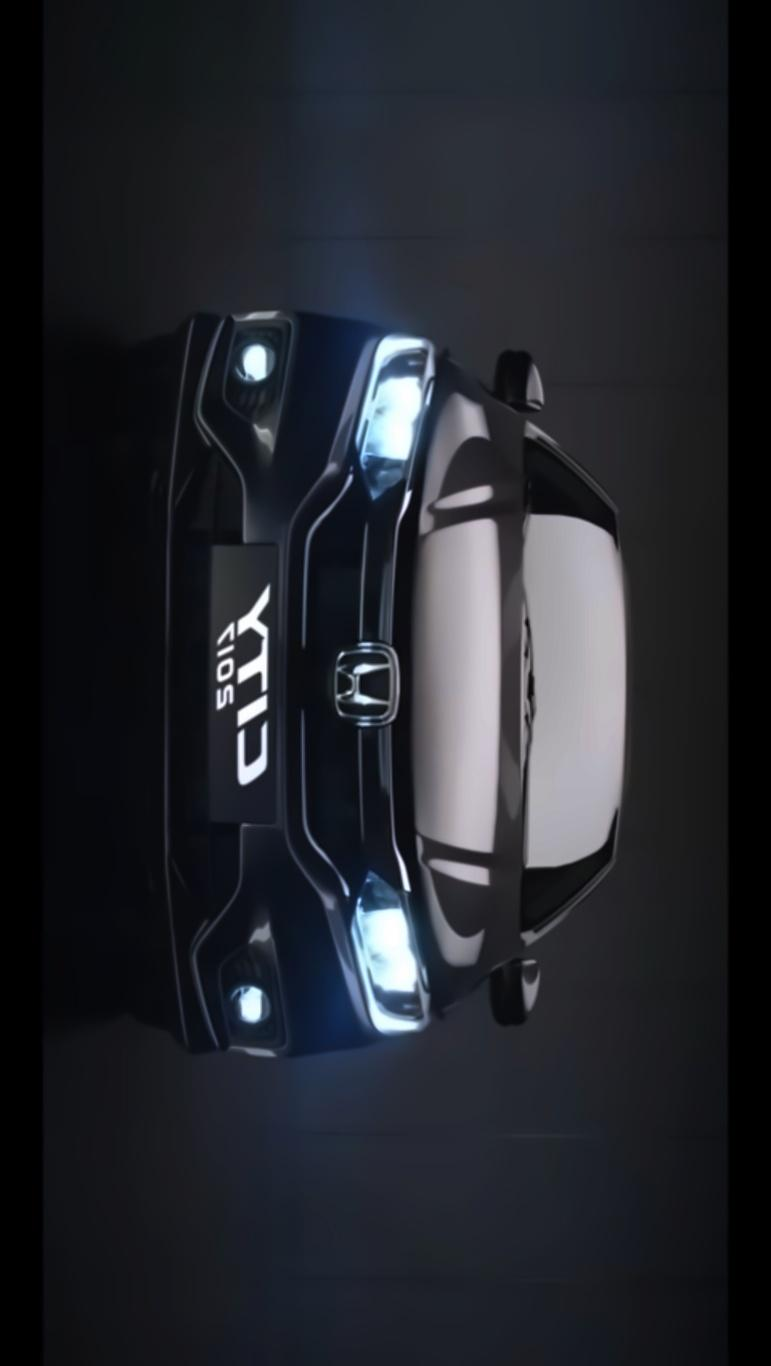Car hood: (396, 352, 521, 1003)
Front bumper: (140, 298, 359, 1073)
Headlight - -L-: (344, 870, 428, 1035)
Headlight - -R-: (350, 336, 443, 499)
Side mirror - -L-: (486, 950, 546, 1034)
Side mirror - -R-: (488, 334, 544, 417)
